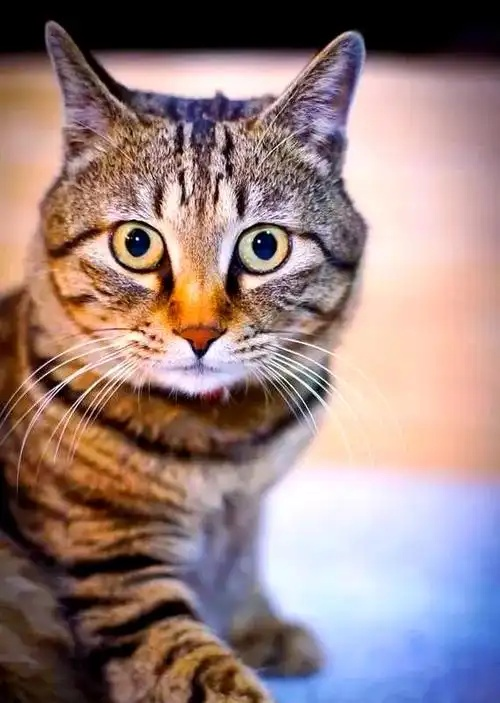狸花猫: (42, 23, 366, 391)
